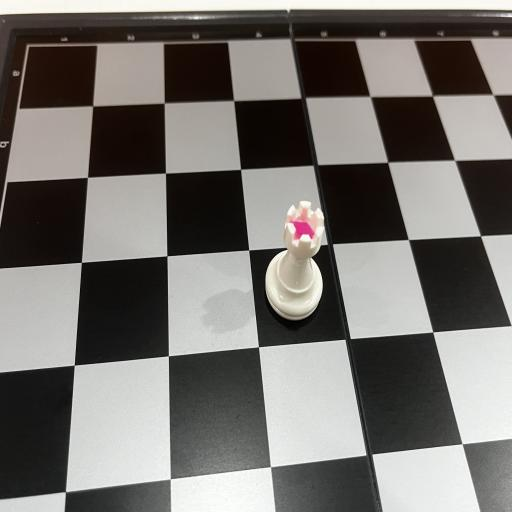White rook: (264, 200, 324, 320)
